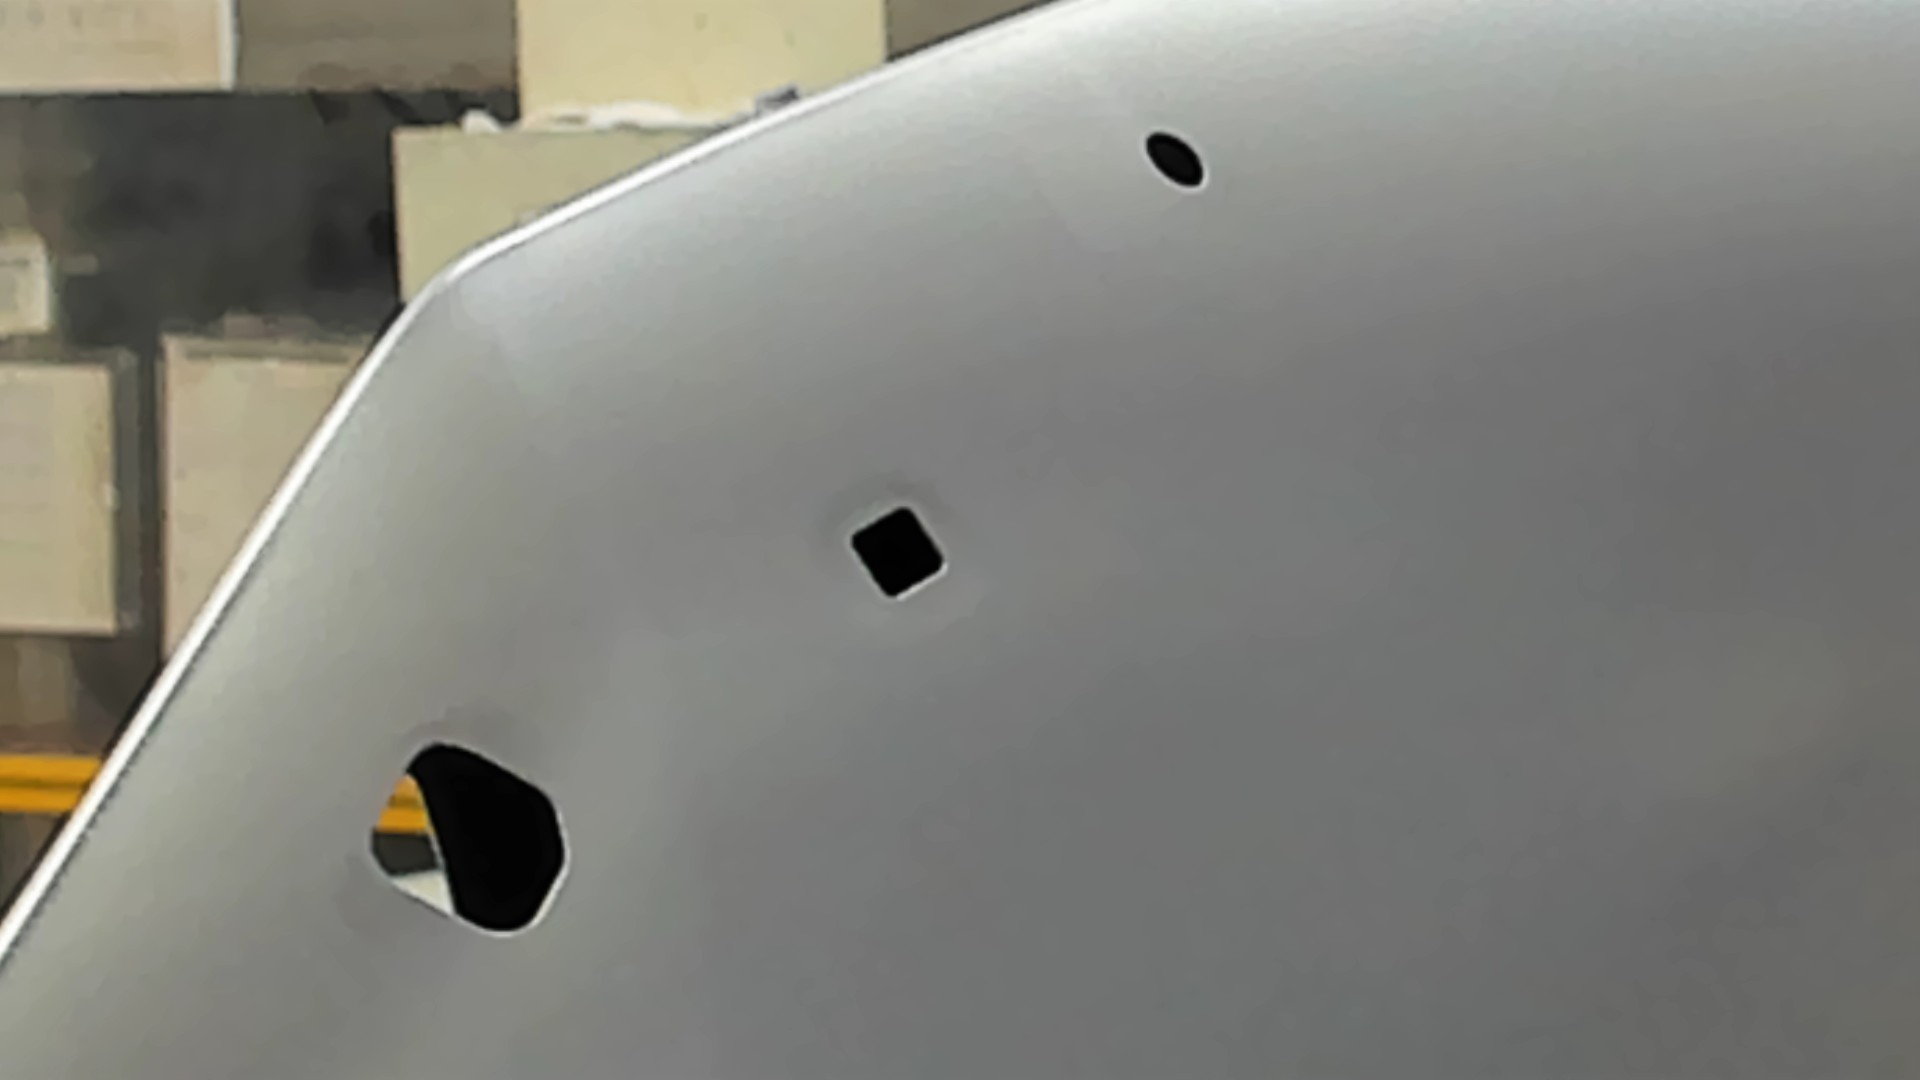chico: (1142, 128, 1207, 193)
grande: (365, 741, 574, 942)
mediano: (847, 500, 948, 603)
